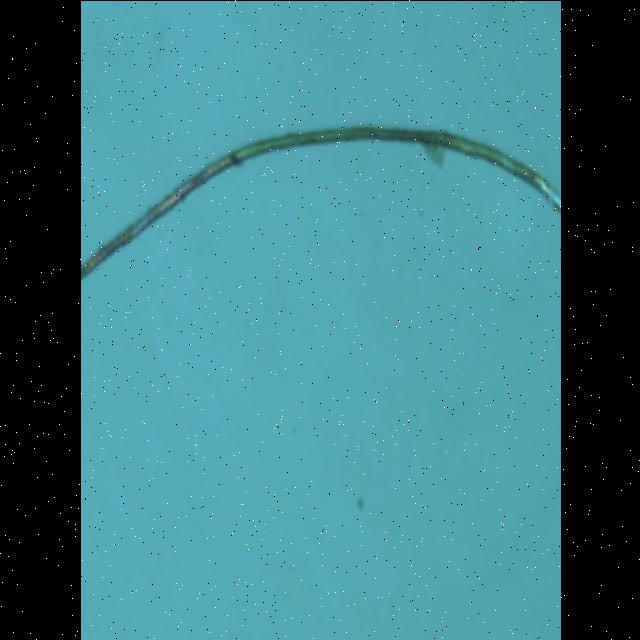Fibre: (80, 123, 560, 283)
